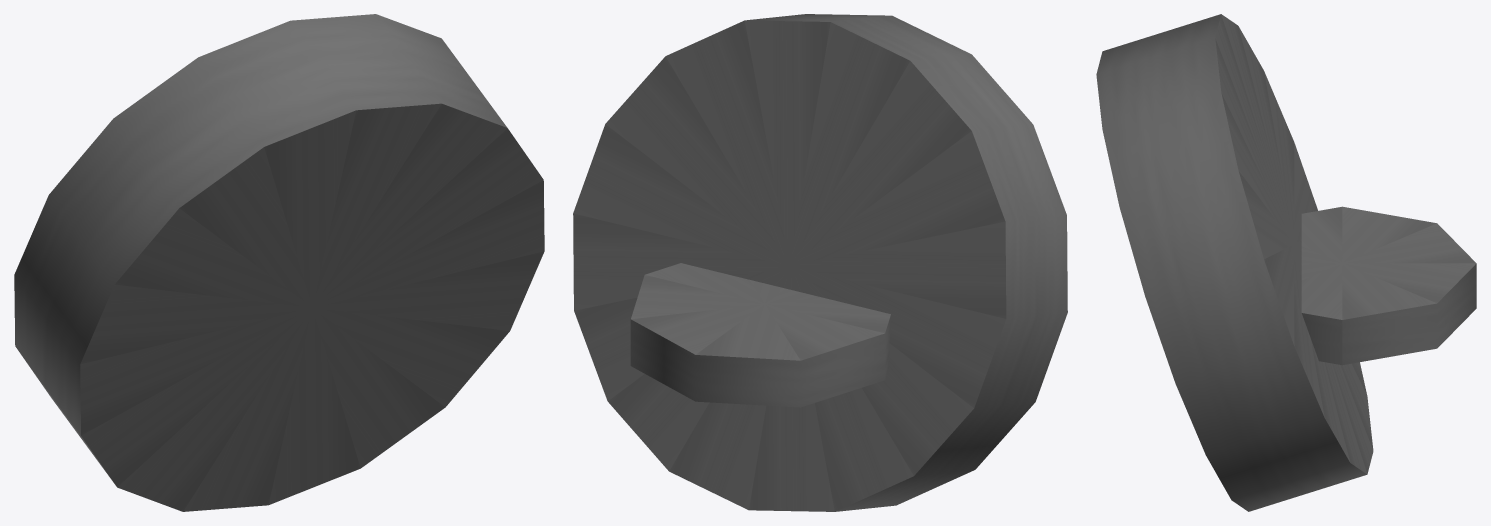
Rendered from mastarmcurve_10x2_c1_up.obj.
3 renders of one model, left to right at view 1: azimuth 30°, elevation 25°; view 2: azimuth 150°, elevation 25°; view 3: azimuth 270°, elevation 25°, orthographic. The views are drawn at different scales.
Parts seen in each view (by area): view 1: mastarm_10x2_c1_up; view 2: mastarm_10x2_c1_up; view 3: mastarm_10x2_c1_up.
Boxes of the visible parts, <box> form: mastarm_10x2_c1_up: <box>14,14,544,511</box>; mastarm_10x2_c1_up: <box>573,14,1067,511</box>; mastarm_10x2_c1_up: <box>1096,14,1476,511</box>.
Bounding box in the file's own units: 0.7208 × 0.7424 × 0.5668.
